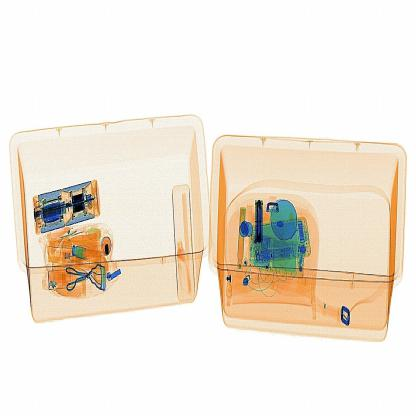scissors: (247, 192, 274, 255)
